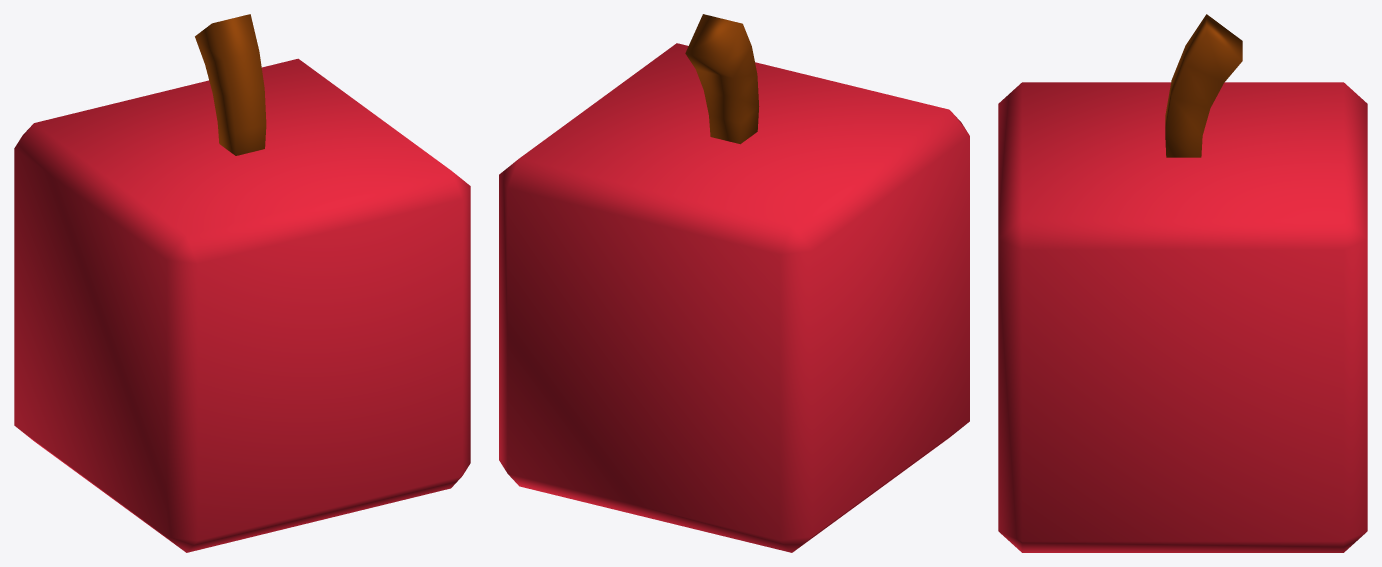
The model's file is Pomme.fbx.
The picture shows the model from 3 angles, left to right: view 1: azimuth 30°, elevation 25°; view 2: azimuth 150°, elevation 25°; view 3: azimuth 270°, elevation 25°; orthographic projection. The views are drawn at different scales.
Visible parts, largest first — view 1: Pomme; view 2: Pomme; view 3: Pomme.
Boxes of the visible parts, box(x1,y1,x2,y2) form: Pomme: box(14, 14, 470, 552); Pomme: box(499, 14, 969, 552); Pomme: box(998, 14, 1367, 552).
Bounding box in the file's own units: 200 × 275 × 200.
